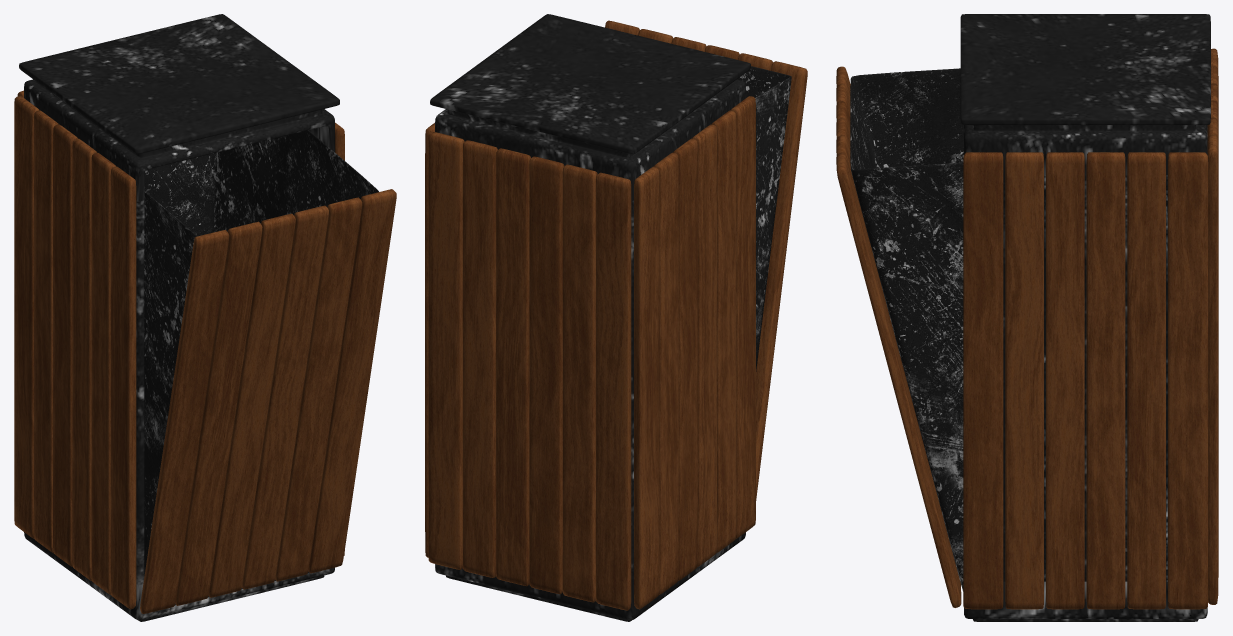
Rendered from trashcan-handle.glb.
3 views of the same model, side by side, from view 1: azimuth 30°, elevation 25°; view 2: azimuth 150°, elevation 25°; view 3: azimuth 270°, elevation 25° (orthographic). The views are drawn at different scales.
Parts seen in each view (by area): view 1: bin_006; view 2: bin_006; view 3: bin_006.
Part boxes in pixels (box(x1,y1,x2,y2)): bin_006: box(14, 14, 396, 621); bin_006: box(425, 14, 807, 621); bin_006: box(836, 14, 1218, 621).
Bounding box in the file's own units: 0.5358 × 1.13 × 0.7707.
Materials: 3 (3 with a texture image).
